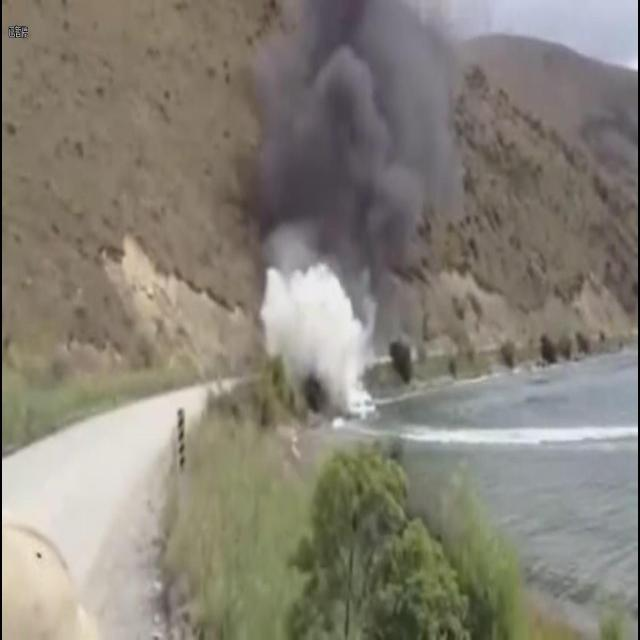smoke: (255, 8, 449, 244), (262, 266, 366, 411)
